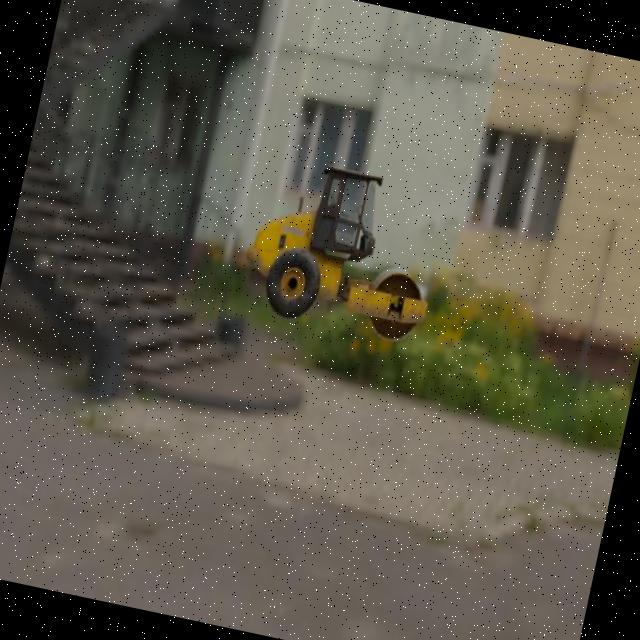Roller: (234, 150, 452, 347)
